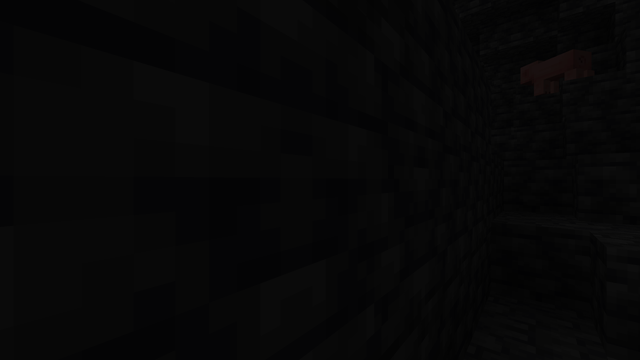cochons: (537, 46, 585, 94)
